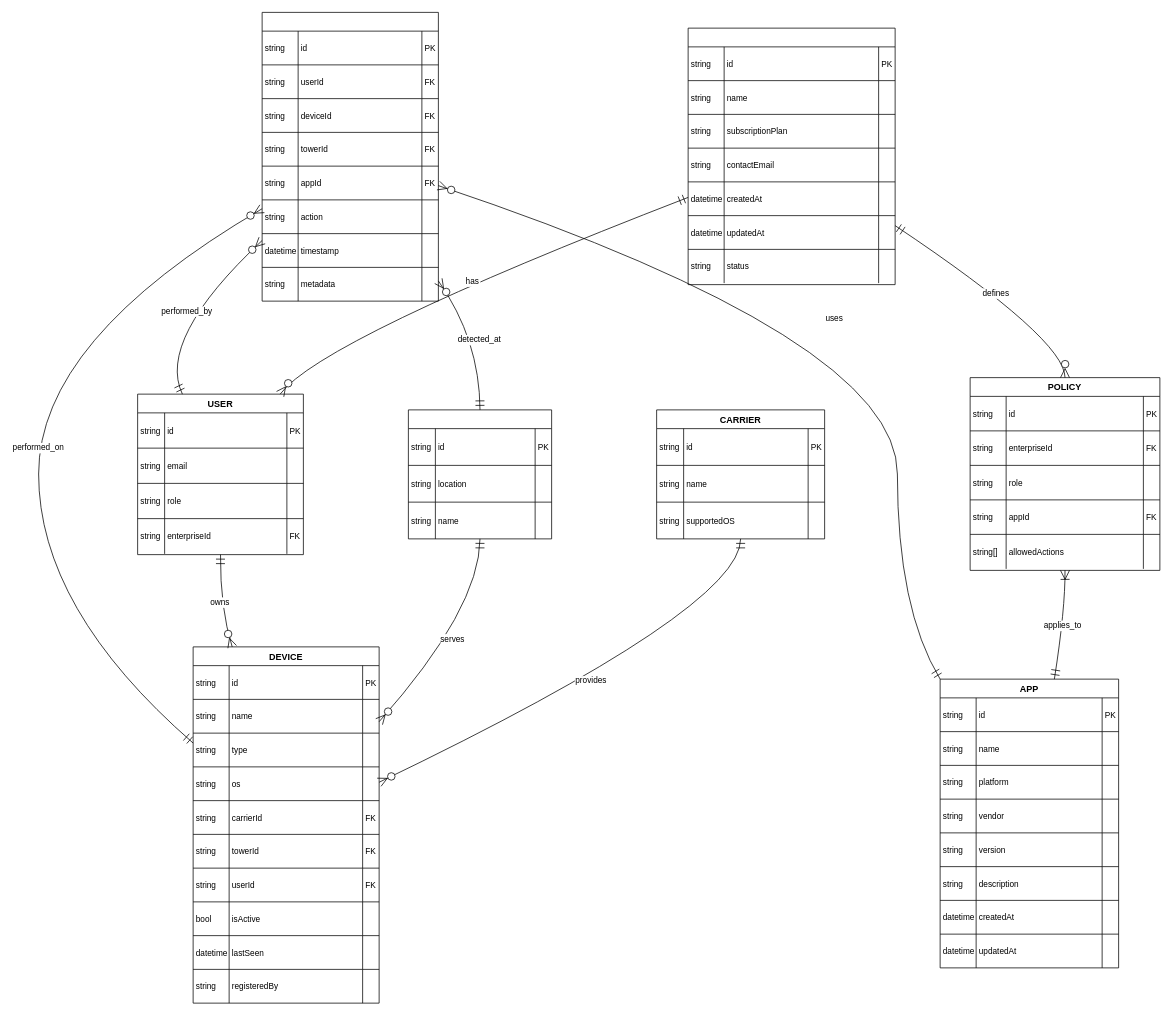
This 1172x1016 diagram has some shape labels left out. Here are the shapes that lost their labels. From the top down, the box of each, then its label:
(261, 12, 438, 301): APP_ACTIVITY
(687, 27, 895, 285): ENTERPRISE
(408, 409, 552, 539): TOWER
